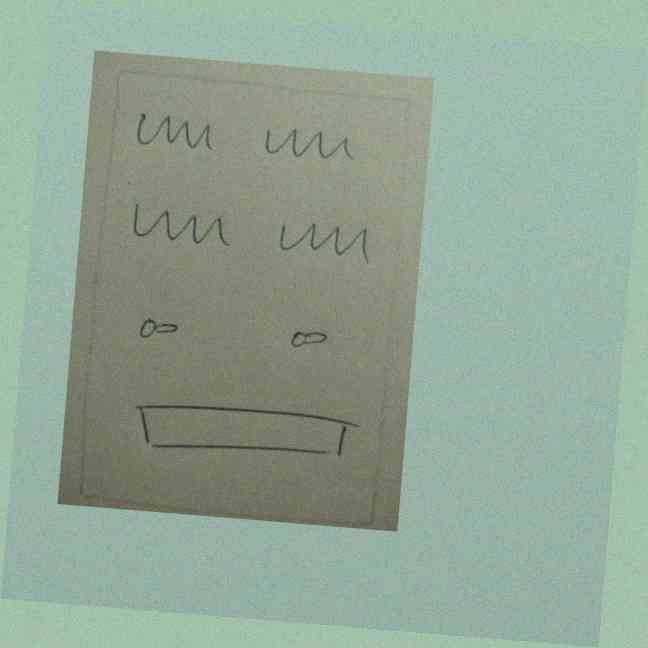switch: (128, 305, 191, 355), (276, 317, 339, 358)
text: (127, 194, 238, 259), (271, 208, 378, 272), (258, 116, 365, 177), (129, 102, 225, 159)
text_input: (114, 394, 368, 470)
